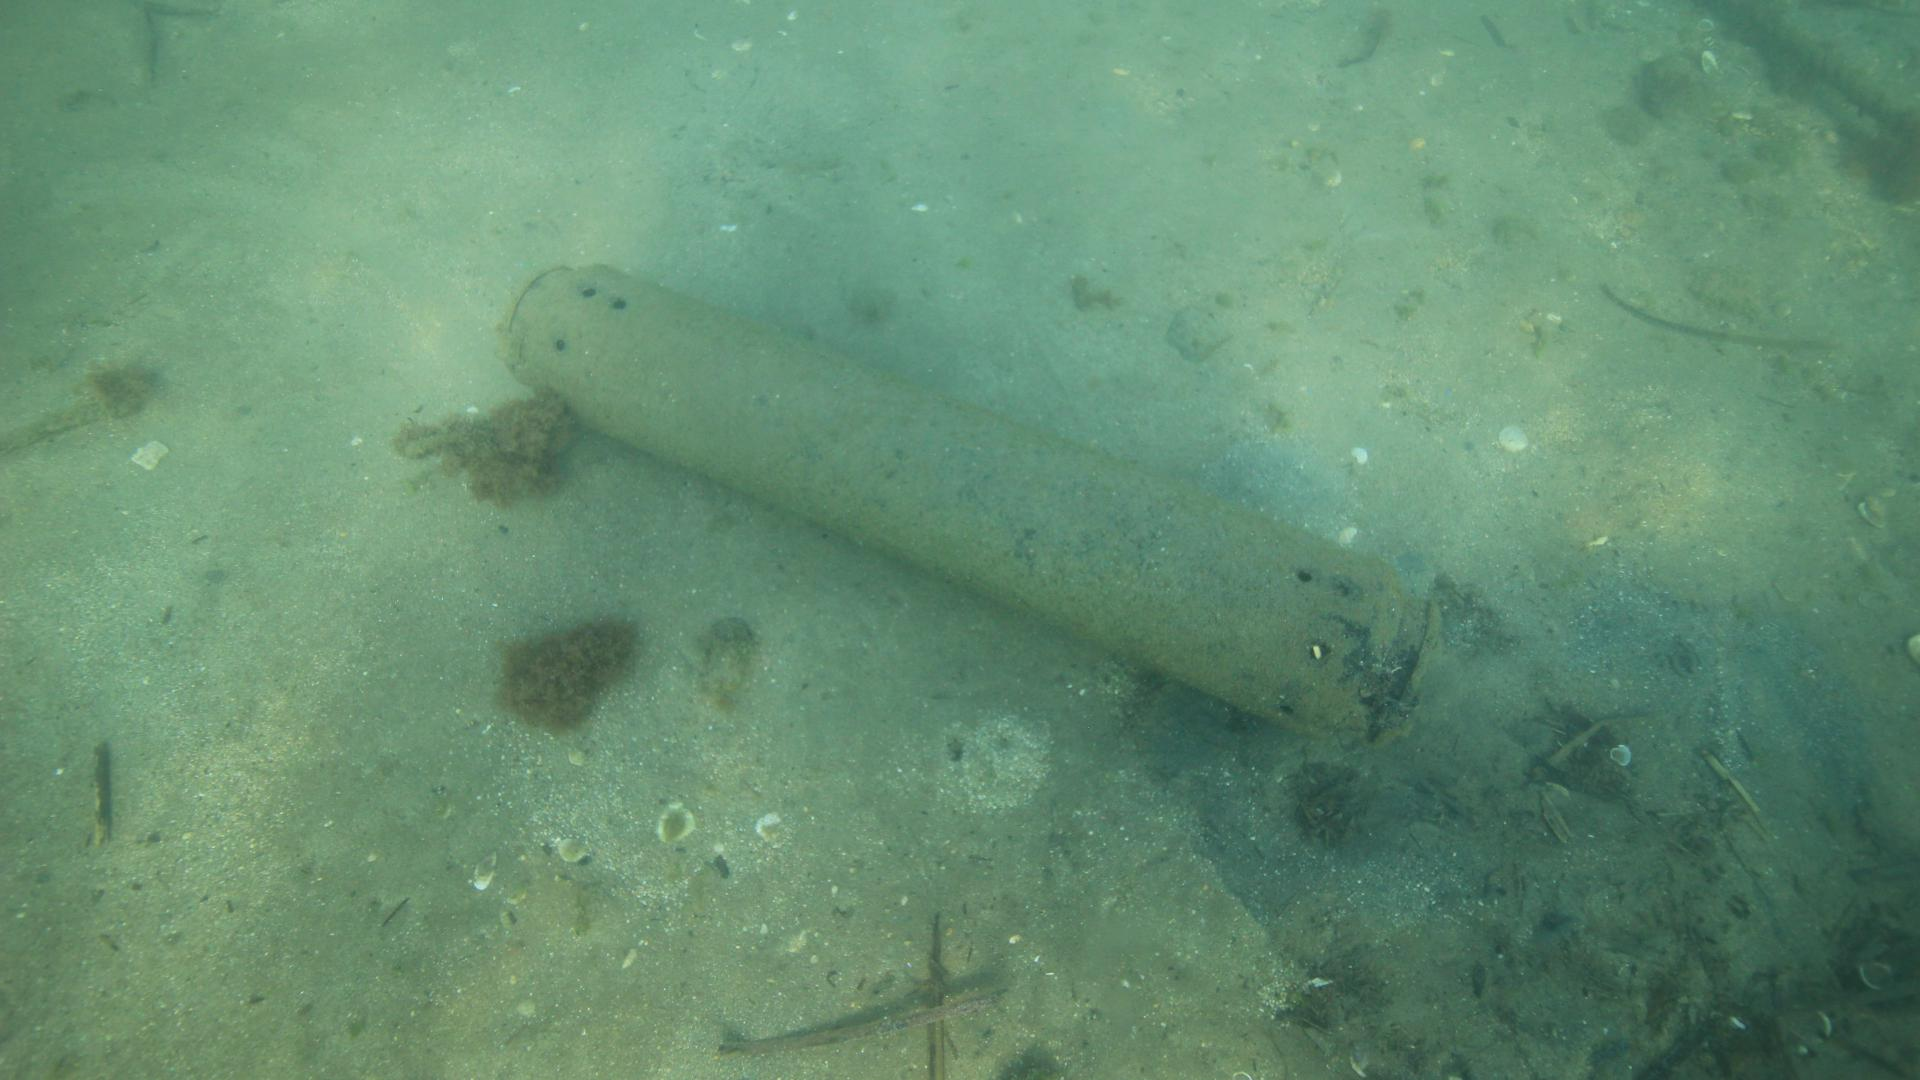eel fish trap: (496, 258, 1443, 749)
